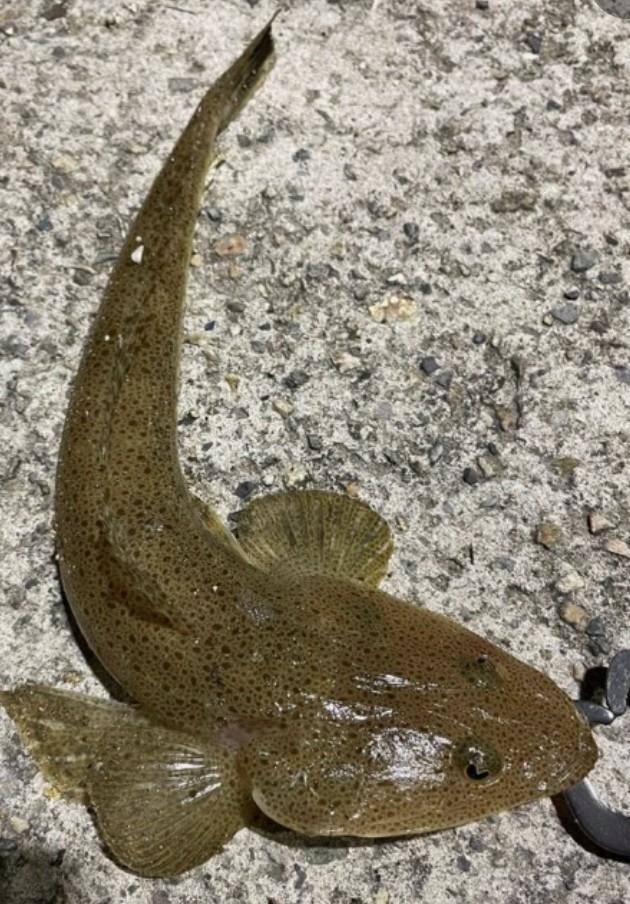fish: (3, 25, 602, 884)
